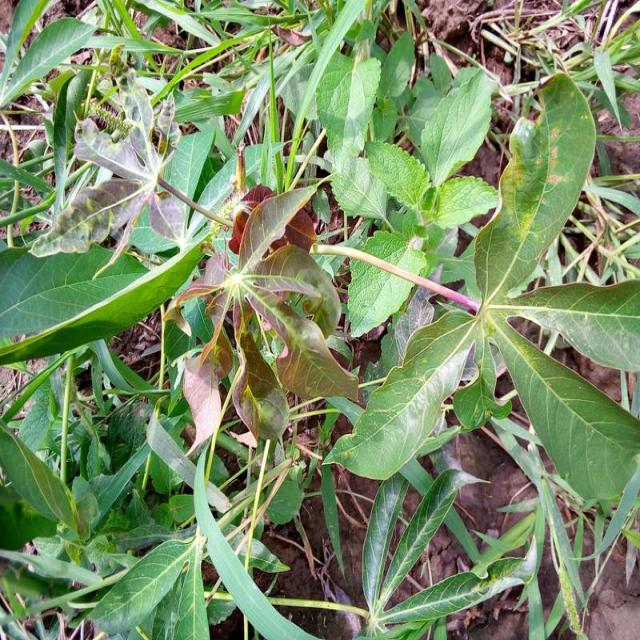cassava leaf: (2, 2, 640, 637), (324, 68, 640, 514), (473, 70, 598, 305), (2, 227, 212, 365)
